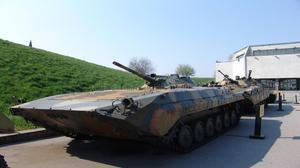bmp: (9, 59, 241, 149)
